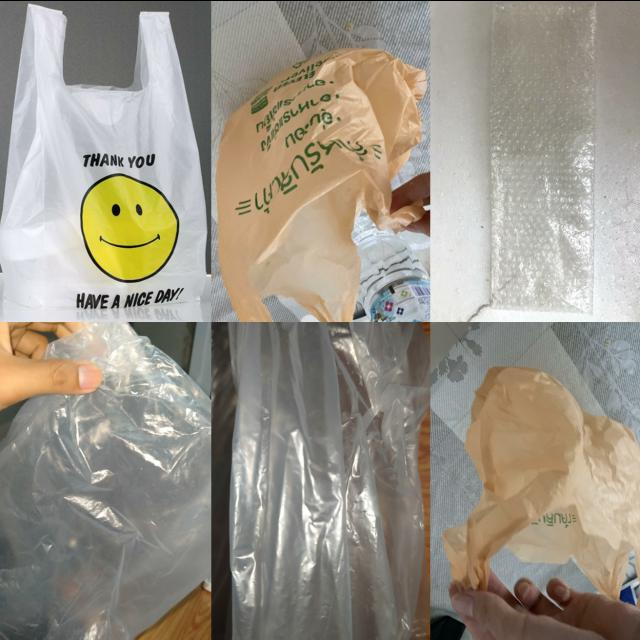plastik: (0, 322, 210, 640), (0, 5, 206, 319), (228, 322, 429, 640), (216, 47, 427, 321), (443, 366, 640, 597), (490, 2, 595, 311)
